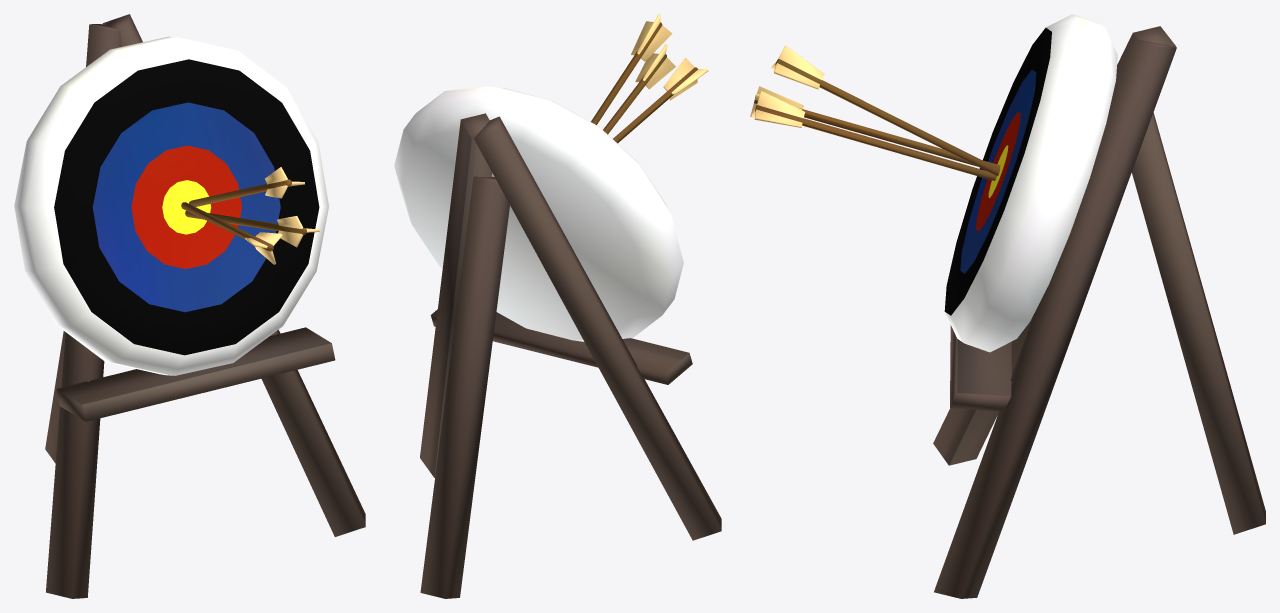
File: ArcheryRangeTargetArrows.glb
3 renders of one model, left to right at view 1: azimuth 30°, elevation 25°; view 2: azimuth 150°, elevation 25°; view 3: azimuth 270°, elevation 25°, orthographic. The views are drawn at different scales.
Parts seen in each view (by area): view 1: ArcheryRangeTargetArrows; view 2: ArcheryRangeTargetArrows; view 3: ArcheryRangeTargetArrows.
Part boxes in pixels (box(x1,y1,x2,y2)): ArcheryRangeTargetArrows: box(14, 14, 365, 598); ArcheryRangeTargetArrows: box(394, 14, 721, 598); ArcheryRangeTargetArrows: box(750, 14, 1265, 598).
Bounding box in the file's own units: 1.04 × 1.48 × 1.39.
1 material, 1 textured.
